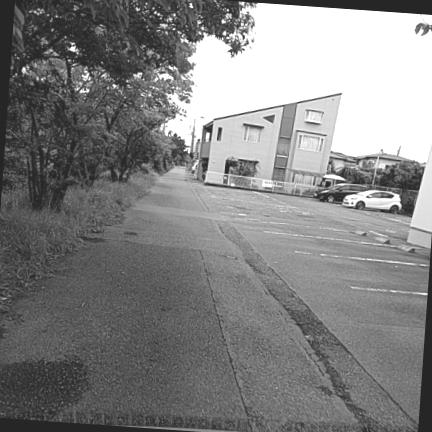Road: (0, 169, 429, 431)
